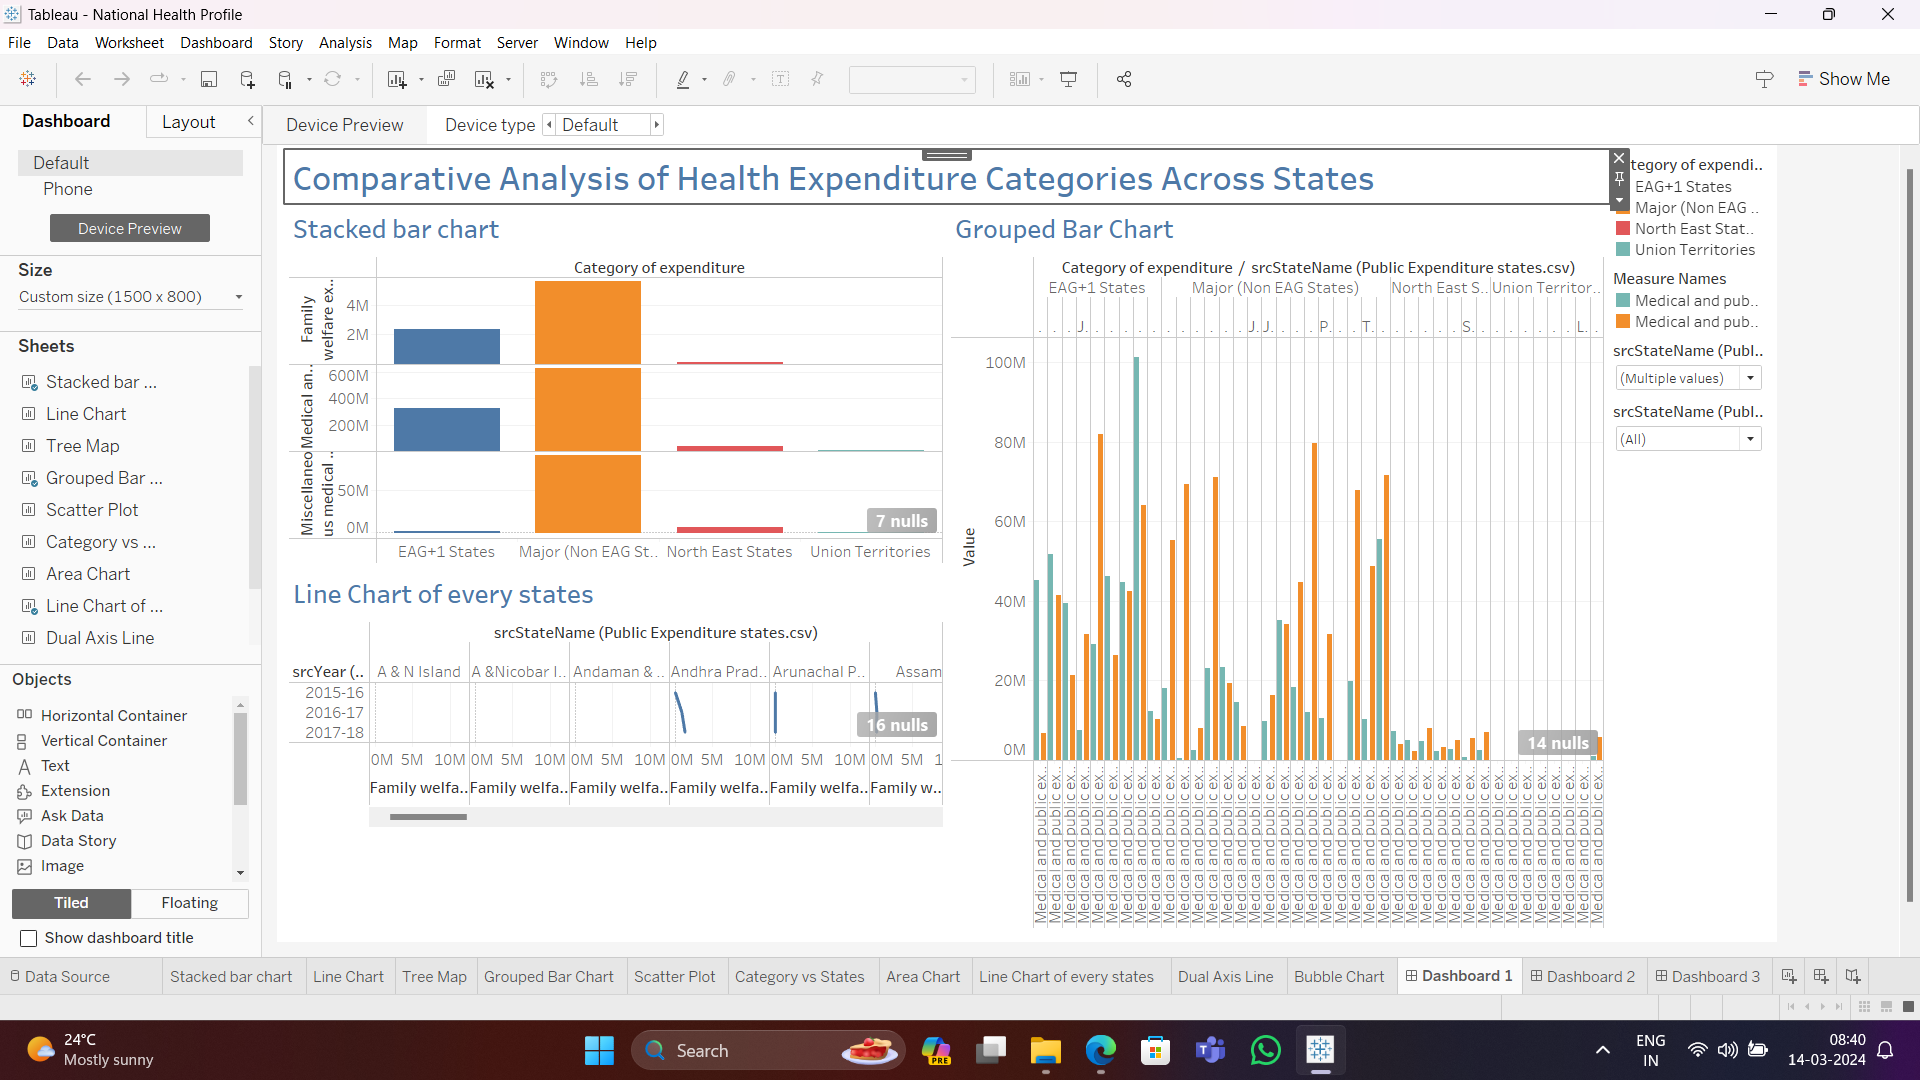

The dashboard page shown, as its layout file describes it:
{"tool":"tableau","page":{"name":"Dashboard 1","canvas":[1500,800],"ordinal":0},"visuals":[{"type":"title","box":[8,8,1324,53]},{"type":"legend","title":"Stacked bar chart","param":"[federated.0fao5pk0phrhz61fczgl31r1oml0].[none:Category of expenditure:nk]","box":[1332,8,160,114]},{"type":"worksheet","title":"Stacked bar chart","mark":"Automatic","rows":["Family welfare expenditure on health by Urban Family Welfare","Medical and public expenditure on health by Urban Health Ser","Miscellaneous medical and public expenditure on health"],"cols":["Category of expenditure"],"box":[8,61,662,365.5]},{"type":"worksheet","title":"Grouped Bar Chart","mark":"Automatic","cols":["Category of expenditure","srcStateName (Public_Expenditure_states.csv)"],"box":[670,61,662,731]},{"type":"legend","title":"Grouped Bar Chart","param":"[federated.0fao5pk0phrhz61fczgl31r1oml0].[:Measure Names]","box":[1332,122,160,72]},{"type":"filter","title":"Grouped Bar Chart","param":"[federated.0fao5pk0phrhz61fczgl31r1oml0].[none:srcStateName (Public_Expenditure_","box":[1332,194,160,61]},{"type":"filter","title":"Line Chart of every states","param":"[federated.0fao5pk0phrhz61fczgl31r1oml0].[none:srcStateName (Public_Expenditure_","box":[1332,255,160,61]},{"type":"worksheet","title":"Line Chart of every states","mark":"Line","rows":["srcYear (Public_Expenditure_states.csv)"],"cols":["srcStateName (Public_Expenditure_states.csv)","Family welfare expenditure on health by Mother and Child Hea"],"box":[8,426.5,662,365.5]}]}

Visuals, with their boxes on the page's 1500x800 design canvas (x1, y1, x2, y2). These are canvas units, not pixel positions in the 1920x1080 screenshot, which may show the page scaled, cropped or inside an application window:
title: [left=8, top=8, right=1332, bottom=61]
"Stacked bar chart" legend: [left=1332, top=8, right=1492, bottom=122]
"Stacked bar chart" worksheet: [left=8, top=61, right=670, bottom=426]
"Grouped Bar Chart" worksheet: [left=670, top=61, right=1332, bottom=792]
"Grouped Bar Chart" legend: [left=1332, top=122, right=1492, bottom=194]
"Grouped Bar Chart" filter: [left=1332, top=194, right=1492, bottom=255]
"Line Chart of every states" filter: [left=1332, top=255, right=1492, bottom=316]
"Line Chart of every states" worksheet (Line marks): [left=8, top=426, right=670, bottom=792]
